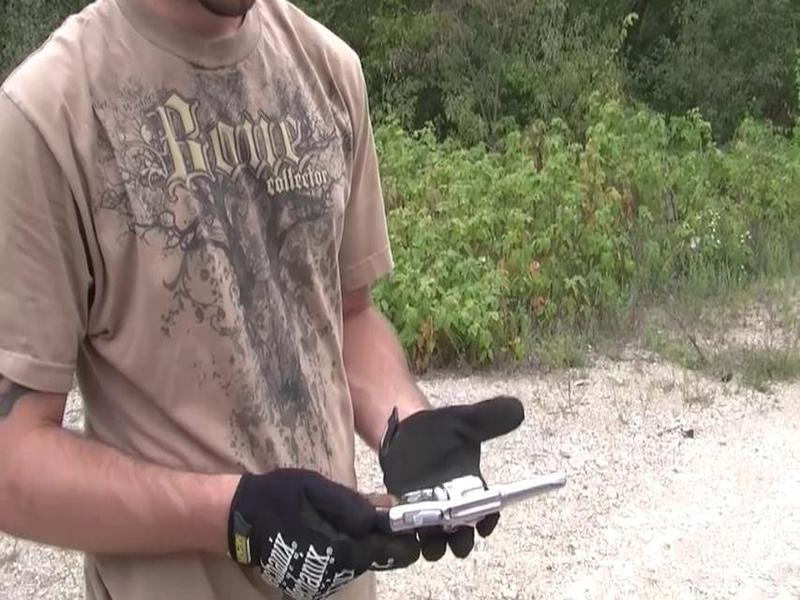Revolver: (366, 444, 568, 579)
